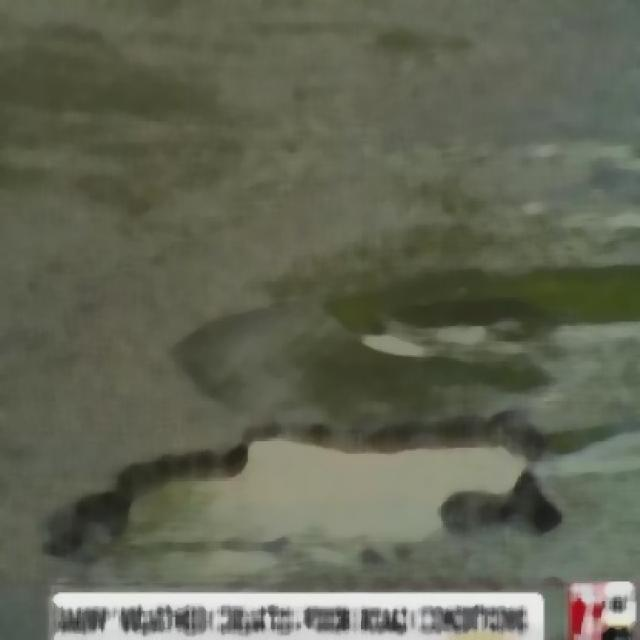Pothole: (34, 420, 535, 586)
